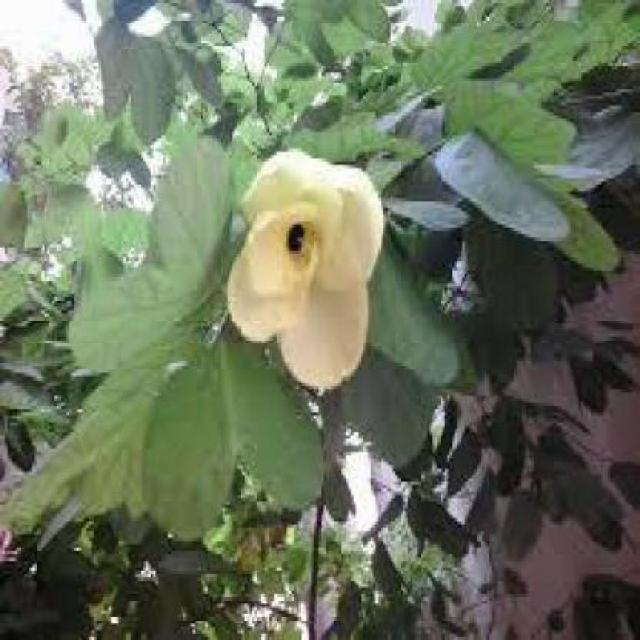flower: (227, 138, 393, 372)
